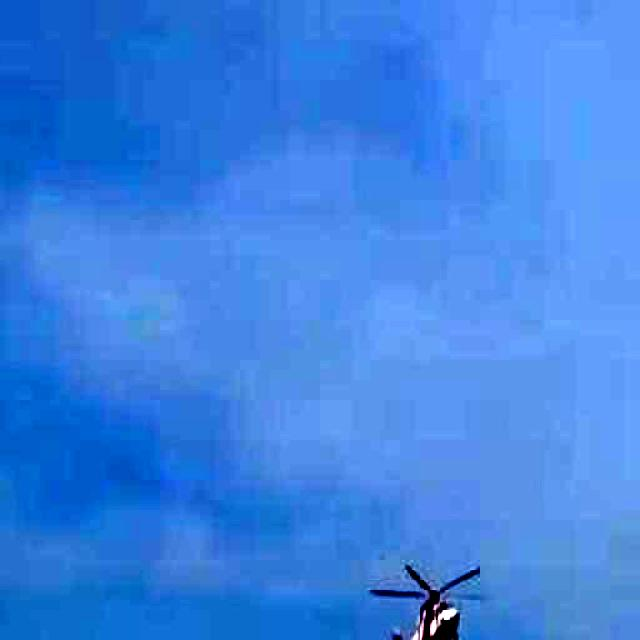drone: (366, 554, 490, 640)
